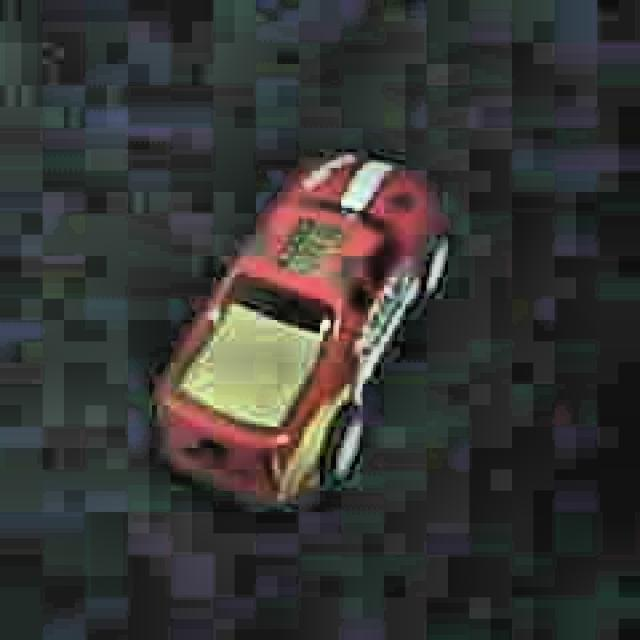car: (151, 145, 454, 516)
